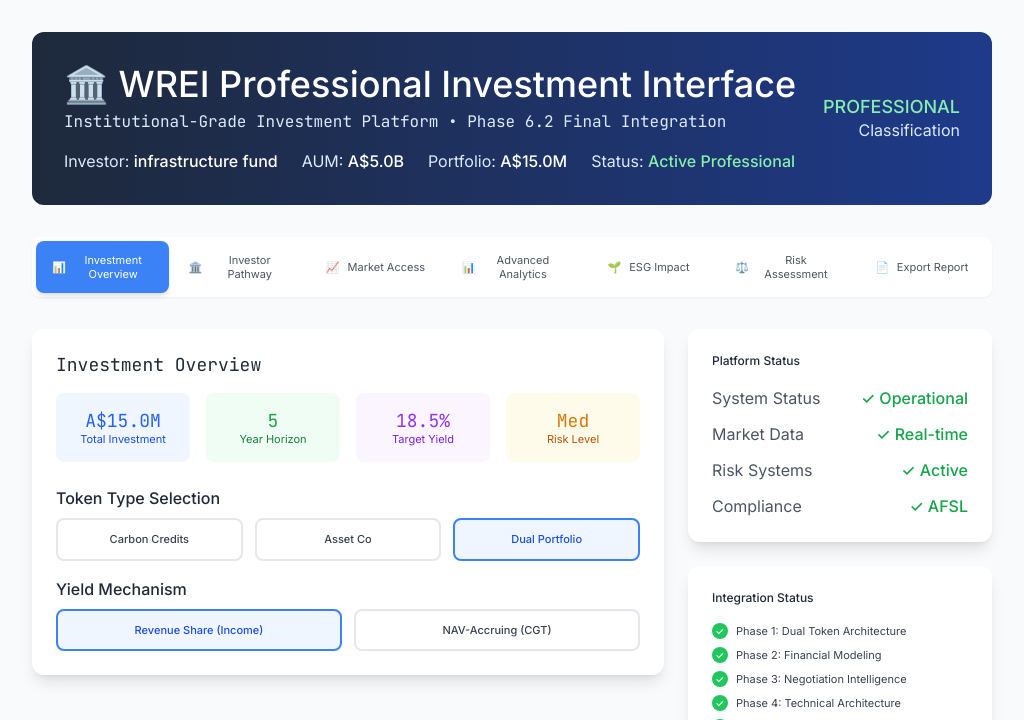
Test: Phase 6.2: Market Access and Pathways › displays investor pathways
Click the text "Investor Pathway" at point(250, 267), box [228, 253, 272, 281]
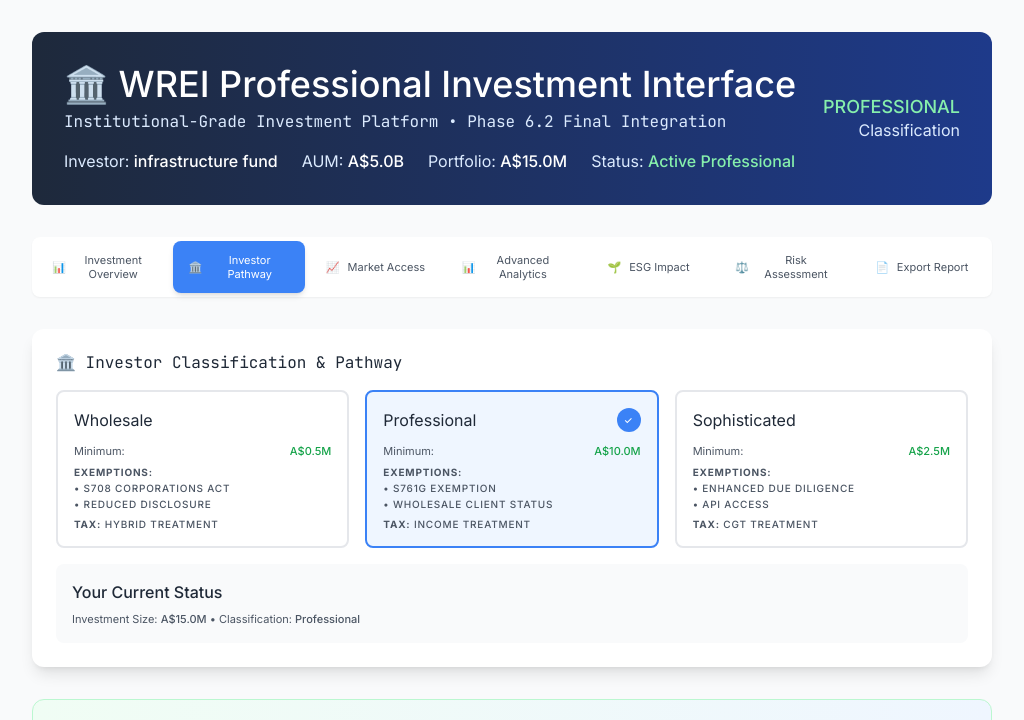
Expected: the heading "🏛️ WREI Professional Investment Interface" is shown, [64, 64, 796, 104]
Result: the text "wholesale" is shown at [74, 408, 153, 432]
Result: the text "sophisticated" is shown at [693, 408, 796, 432]
